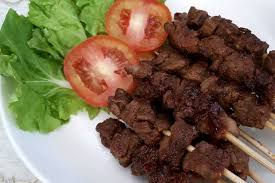sate: (93, 3, 275, 181)
